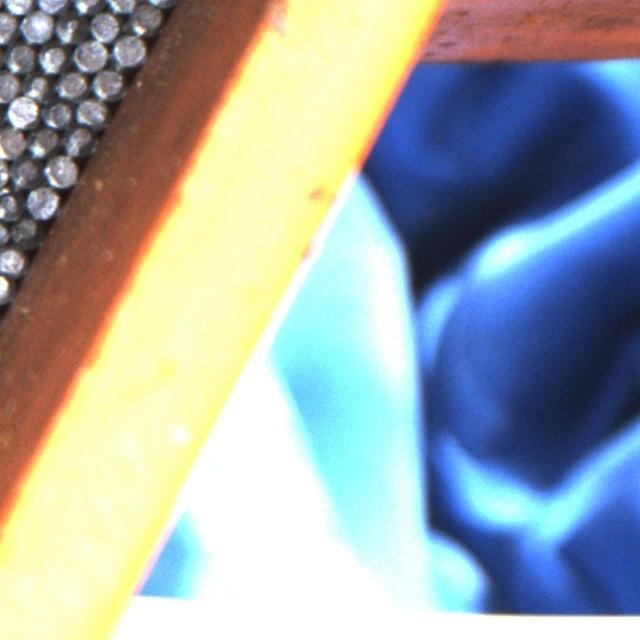tool: (72, 37, 107, 71), (7, 154, 41, 188), (52, 10, 86, 44), (43, 153, 77, 187), (112, 33, 146, 66), (20, 8, 53, 42), (89, 8, 122, 42), (36, 40, 70, 73), (91, 66, 125, 99), (3, 40, 37, 73), (54, 67, 88, 100), (26, 184, 59, 218), (5, 95, 38, 128), (61, 123, 94, 156), (25, 124, 58, 157), (74, 95, 108, 127), (8, 212, 40, 245), (127, 2, 160, 34), (41, 97, 73, 129), (21, 72, 54, 103), (0, 245, 26, 277), (0, 124, 24, 158), (0, 186, 23, 220), (0, 69, 20, 102), (0, 9, 18, 43), (70, 0, 104, 14), (2, 0, 36, 14), (36, 0, 68, 13)
